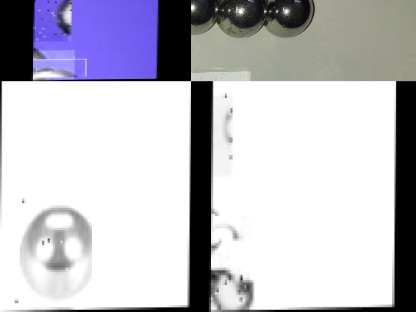ironball: (1, 198, 94, 311), (262, 0, 322, 43), (213, 0, 261, 41), (210, 94, 230, 176), (32, 0, 70, 42), (208, 273, 248, 311), (209, 202, 239, 252), (31, 50, 73, 80), (192, 0, 218, 41), (191, 72, 251, 80)
